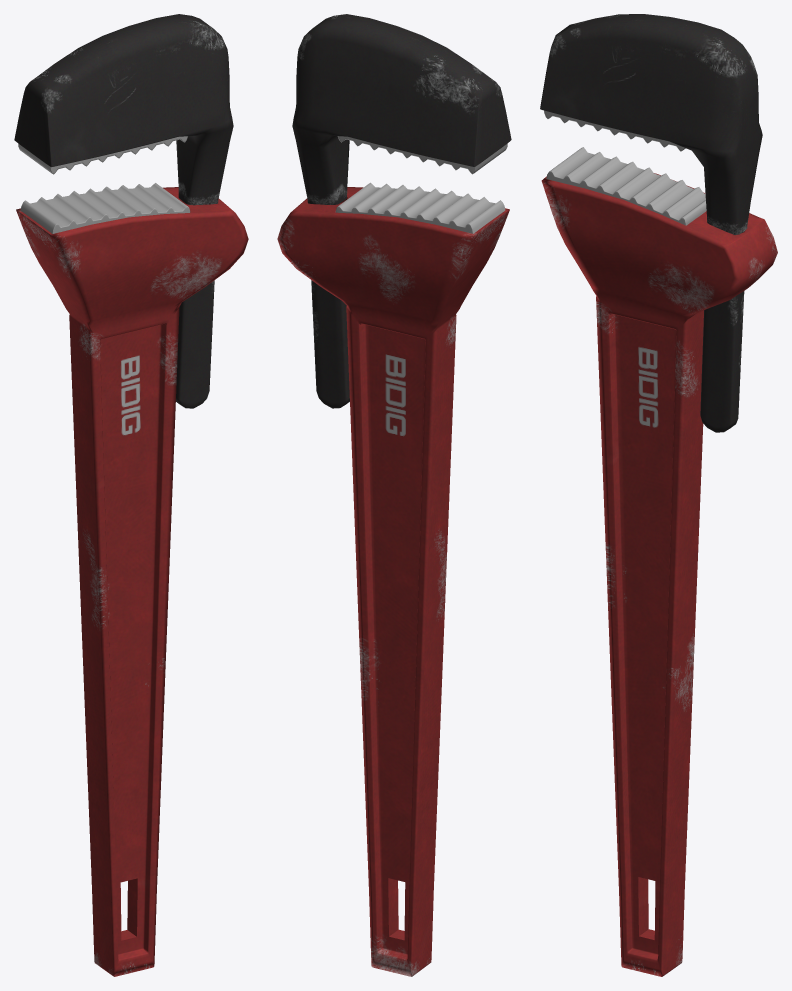
File: Wrench.fbx
3 renders of one model, left to right at view 1: azimuth 30°, elevation 25°; view 2: azimuth 150°, elevation 25°; view 3: azimuth 330°, elevation 25°, orthographic.
Visible parts, largest first — view 1: Wrench; view 2: Wrench; view 3: Wrench.
Boxes of the visible parts, box(x1,y1,x2,y2) form: Wrench: box(14, 14, 248, 976); Wrench: box(277, 14, 511, 976); Wrench: box(540, 14, 777, 976).
Size of the model in its own units: 0.1916 by 0.851 by 0.0612.
Materials: 1 (1 with a texture image).
